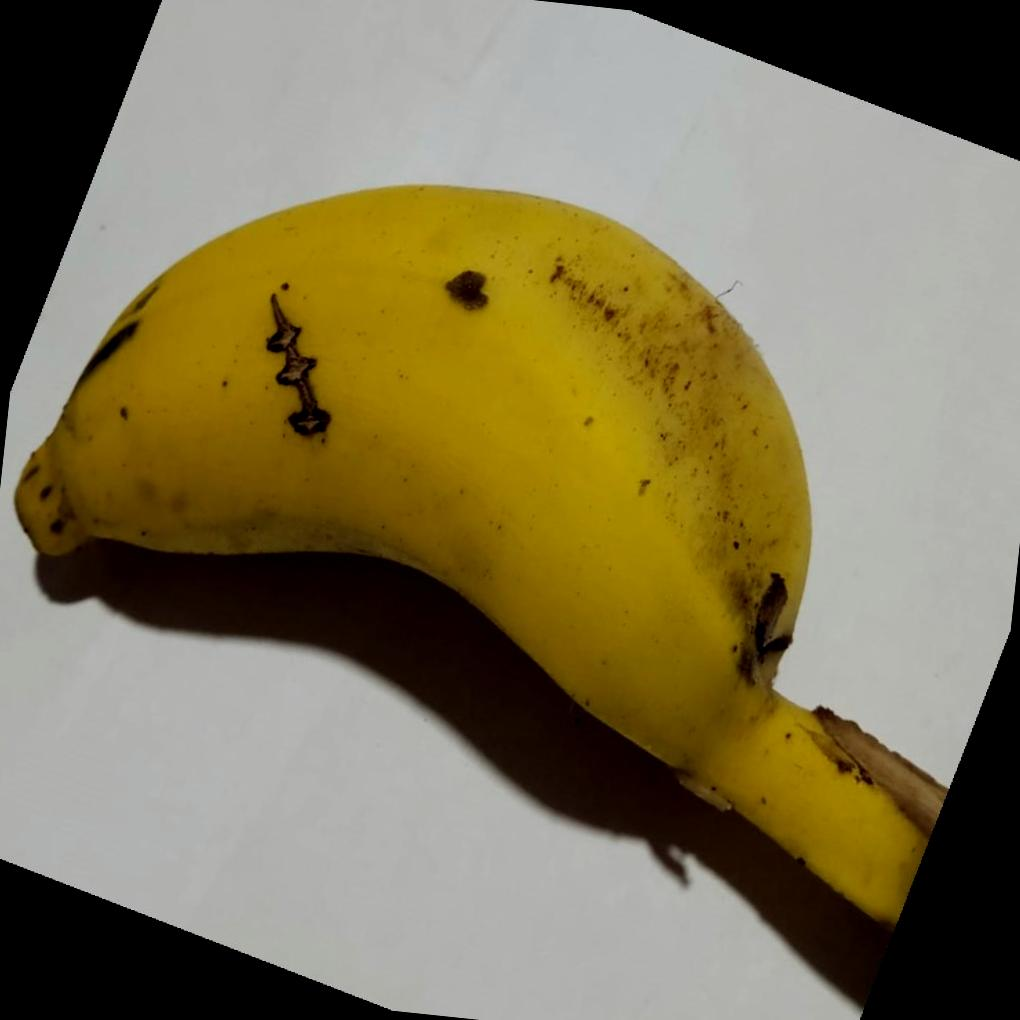Banana Ripe: (0, 146, 993, 978)
